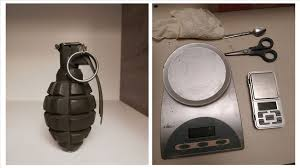e1: (43, 40, 103, 152)
